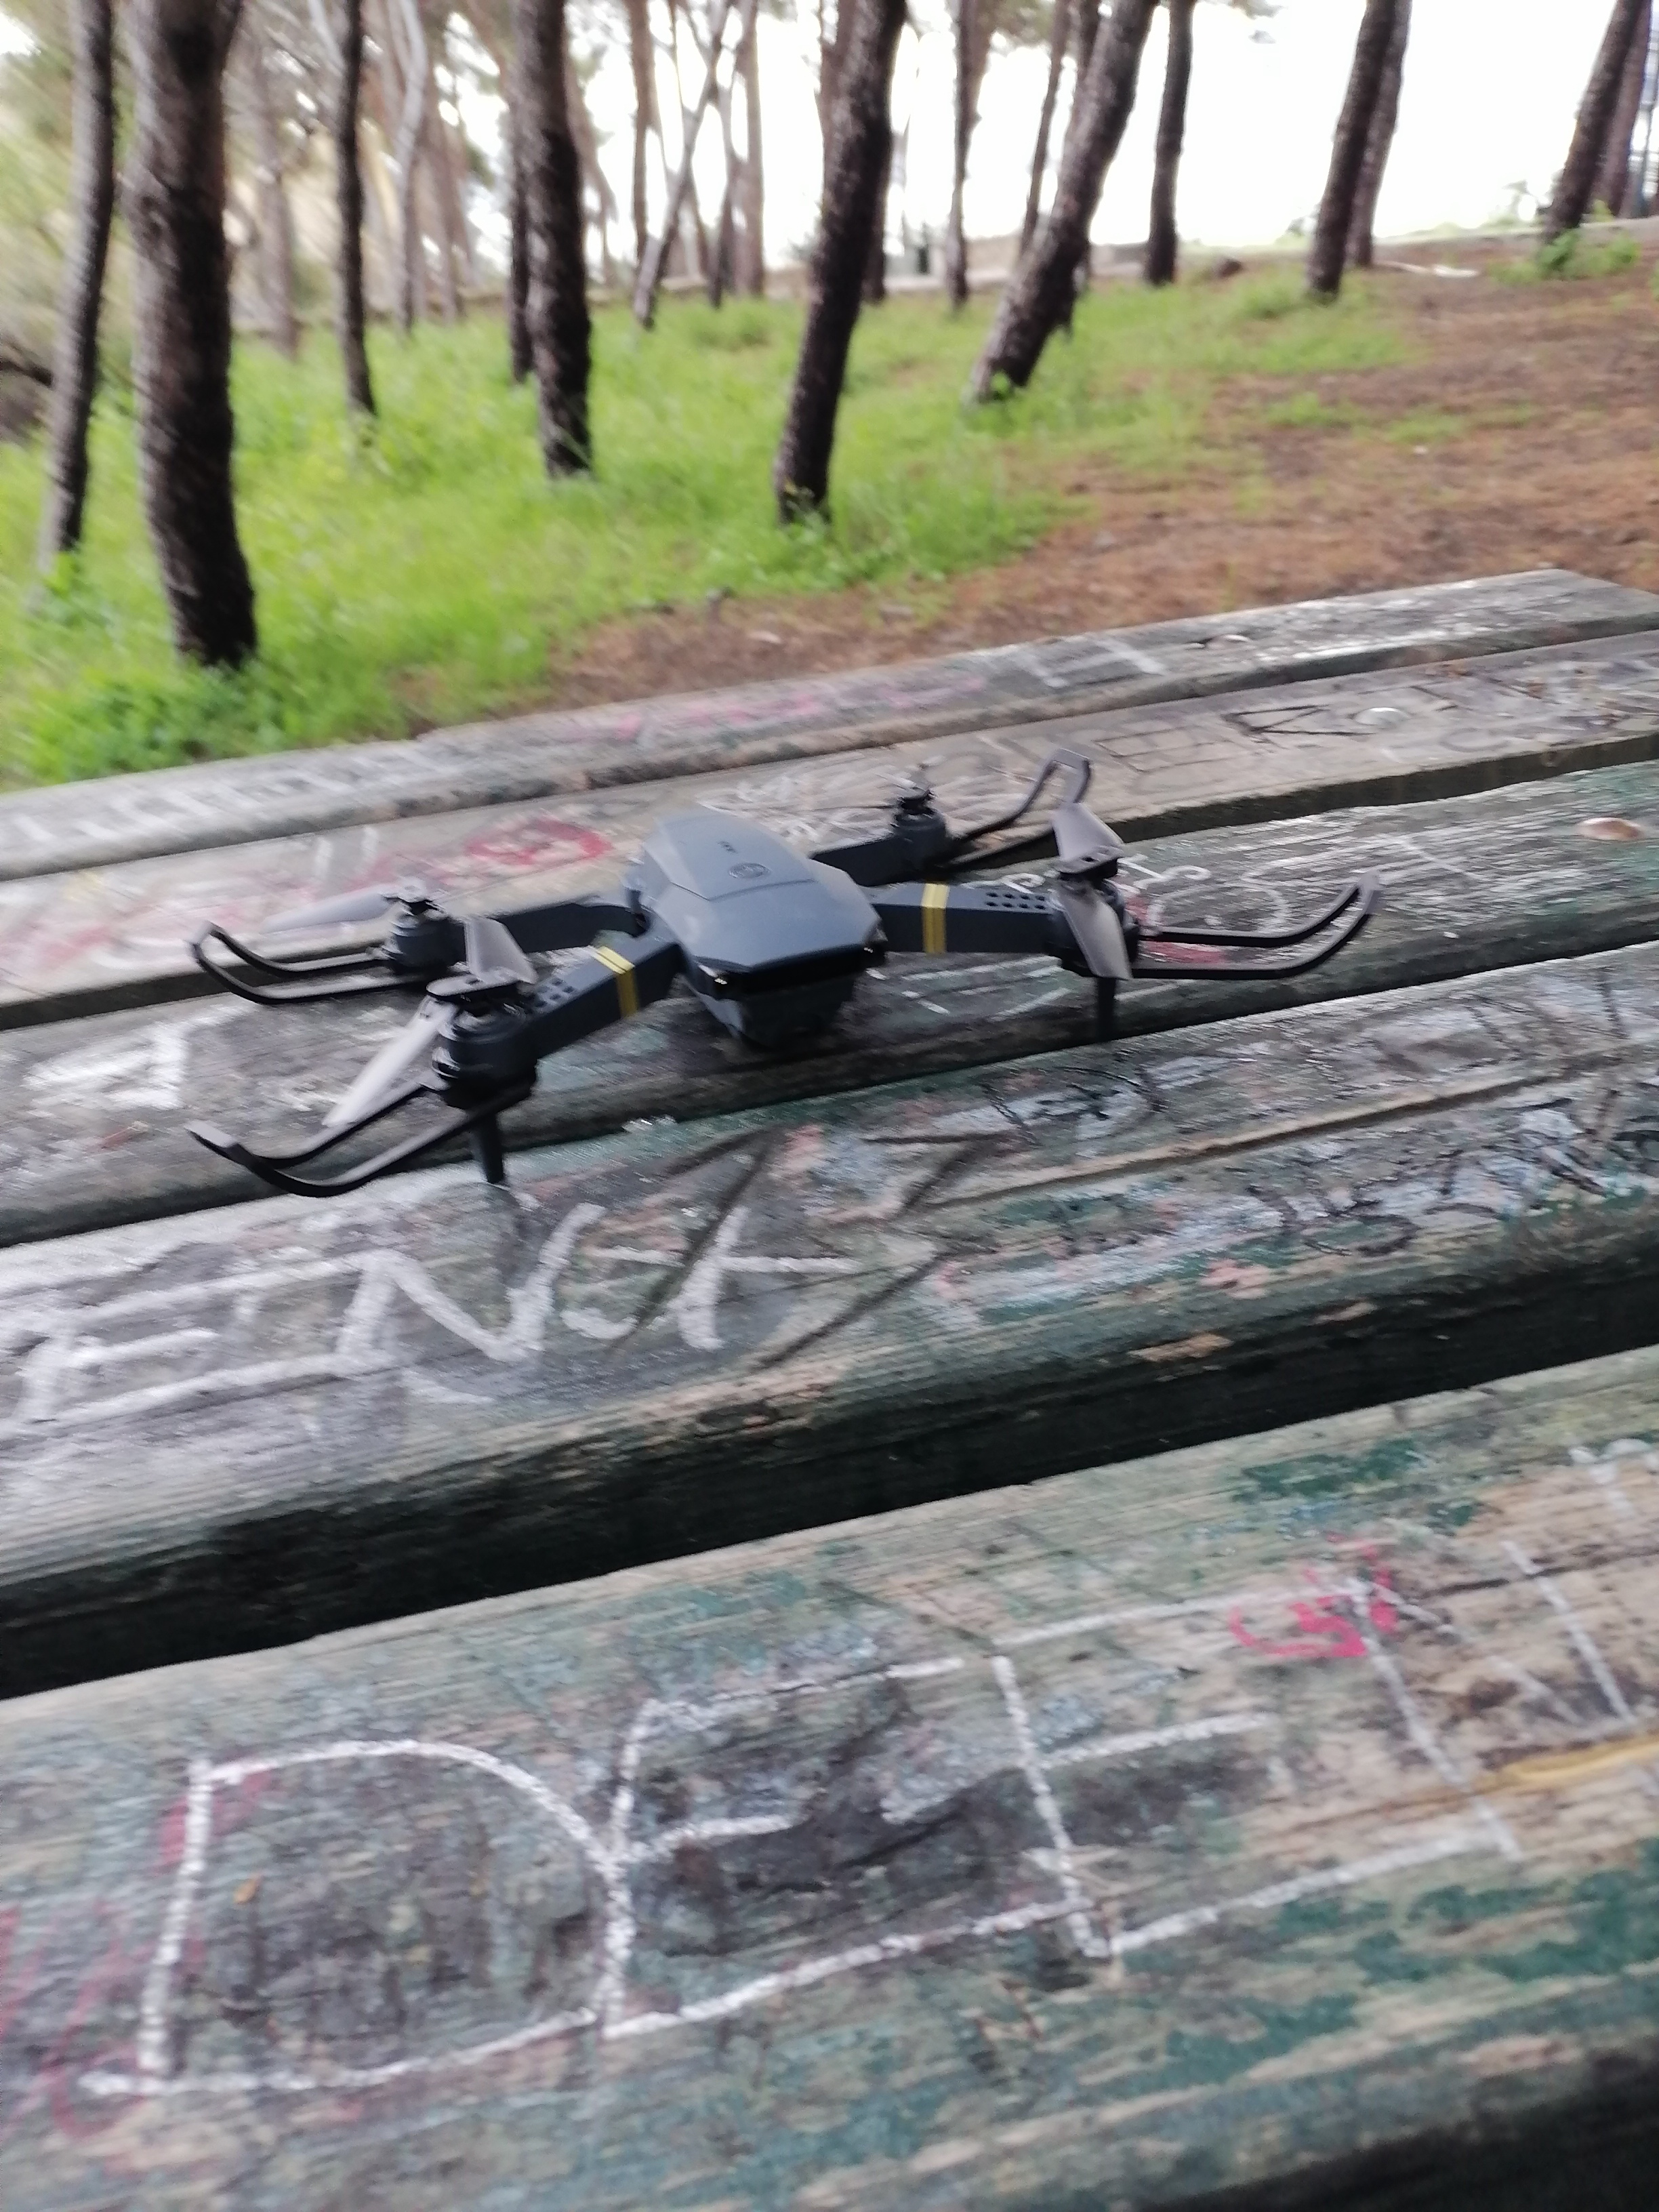drone: (174, 740, 1380, 1204)
